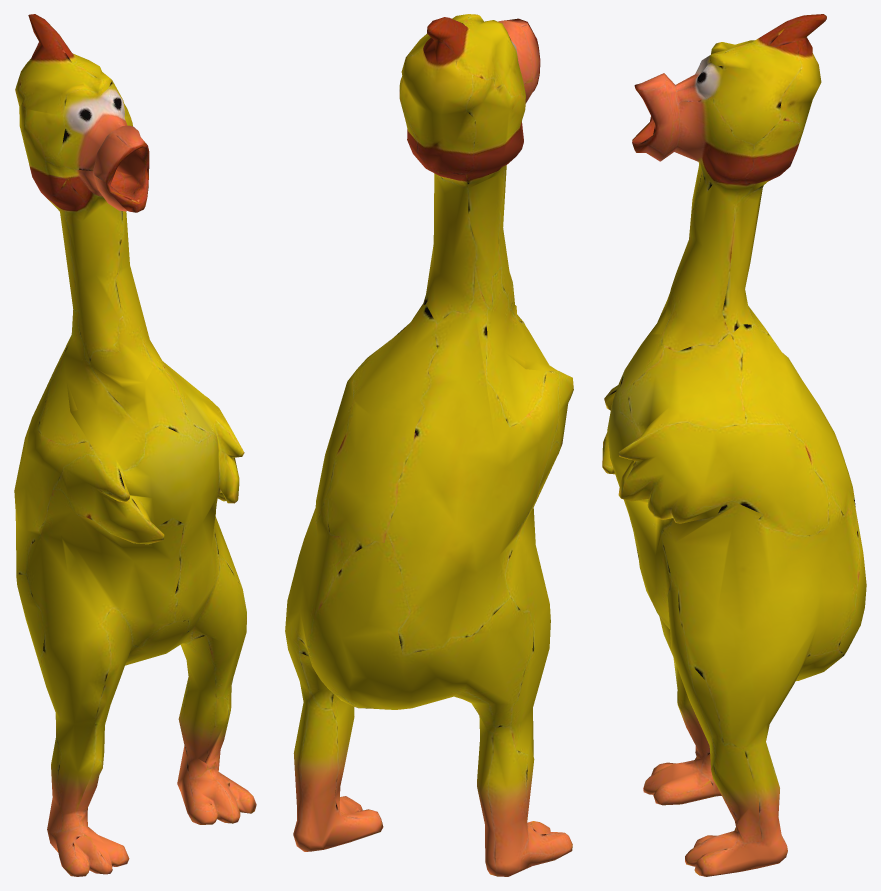
The model's file is Chicken_Meshy_low.glb.
3 renders of one model, left to right at view 1: azimuth 30°, elevation 25°; view 2: azimuth 150°, elevation 25°; view 3: azimuth 270°, elevation 25°, orthographic. The views are drawn at different scales.
Parts seen in each view (by area): view 1: geometry_0; view 2: geometry_0; view 3: geometry_0.
Part boxes in pixels (x1,y1,x2,y2): geometry_0: [14, 14, 256, 876]; geometry_0: [285, 14, 573, 876]; geometry_0: [602, 14, 866, 876].
Bounding box in the file's own units: 0.5343 × 1.9 × 0.581.
1 material, 1 textured.
